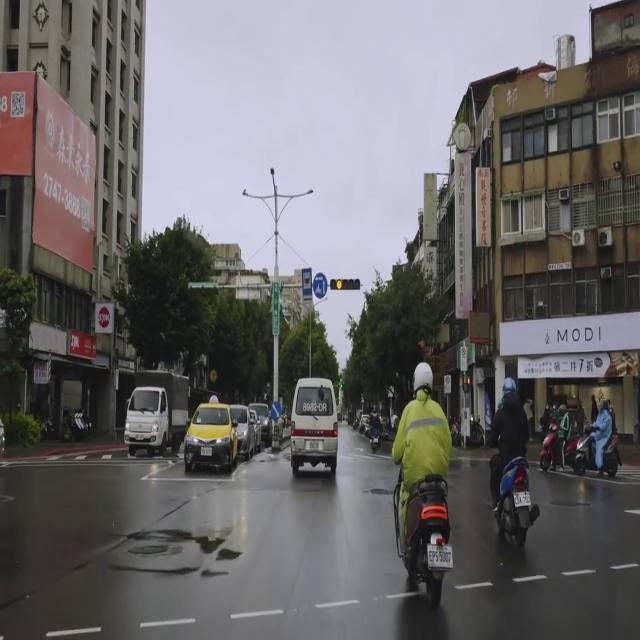yellow light: (330, 277, 360, 292)
